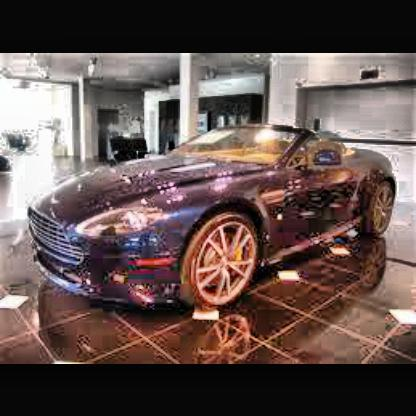Aston Martin V8 Vantage Convertible 2012: (29, 127, 398, 303)
